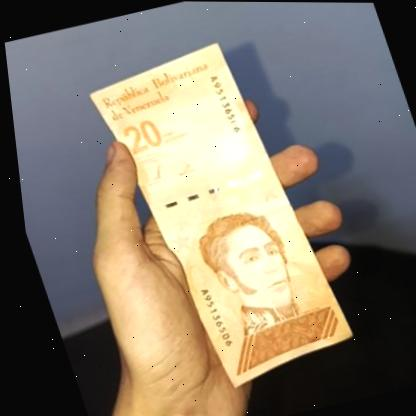twenty-front-vef: (77, 35, 357, 398)
